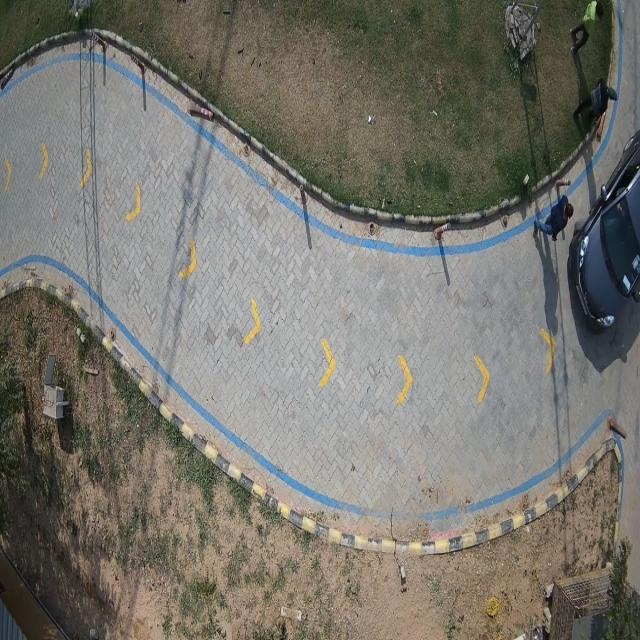car: (570, 131, 640, 330)
